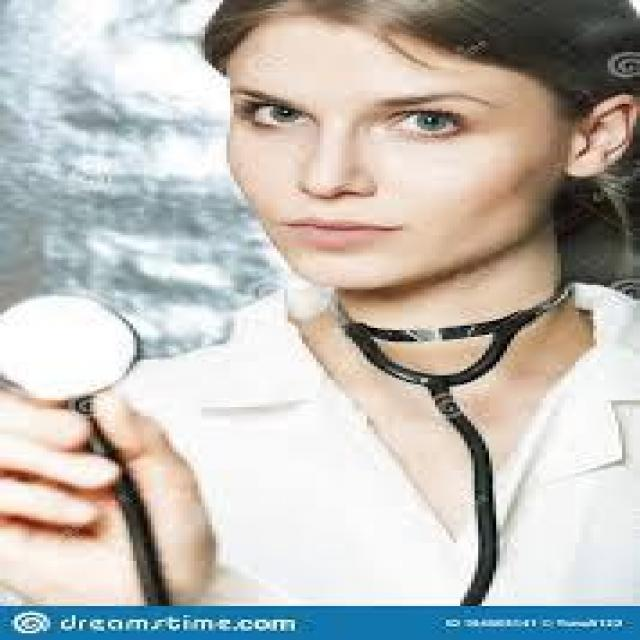person: (36, 0, 633, 599)
